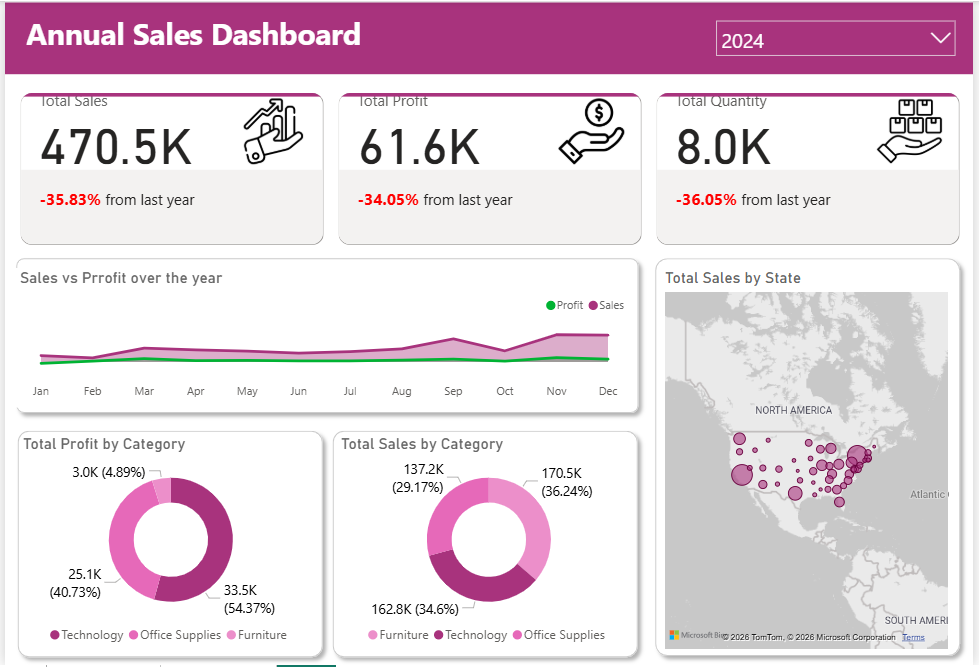

What the dashboard file says about the page in this screenshot:
{"tool":"powerbi","page":{"name":"Page 2","canvas":[1050,720],"ordinal":1},"visuals":[{"type":"shape","box":[0,1.4,1050,77.8],"z":0},{"type":"slicer","fields":{"Values":["Date.Year"]},"box":[761,11.7,279.5,54.1],"z":1000},{"type":"cardVisual","fields":{"Data":["Orders.Total Sales"]},"box":[11.7,95.1,339.5,175.6],"z":2000},{"type":"cardVisual","fields":{"Data":["Orders.Total Profit"]},"box":[355.6,95.1,339.5,175.6],"z":3000},{"type":"shape","box":[695.5,270.7,348.5,449.3],"z":4000},{"type":"shape","box":[2.9,270.7,692.6,185.8],"z":5000},{"type":"cardVisual","fields":{"Data":["Orders.Total Quantity"]},"box":[701,95.1,339.5,175.6],"z":6000},{"type":"textbox","box":[17.3,8.6,469.4,60.5],"z":7000},{"type":"shape","box":[347,456.5,348.5,263.5],"z":8000},{"type":"map","fields":{"Category":["Location.State"],"Size":["Orders.Total Sales"]},"box":[711.4,289.4,316.8,417.6],"z":9000},{"type":"areaChart","title":"Sales vs Prrofit over the year","fields":{"Y":["Orders.Total Profit","Orders.Total Sales"],"Category":["Date.Month"]},"box":[11.5,289.4,669.6,151.2],"z":10000},{"type":"donutChart","fields":{"Y":["Orders.Total Sales"],"Category":["Products.Category"]},"box":[360,470.9,329.8,236.2],"z":11000},{"type":"shape","box":[4.3,456.5,348.5,263.5],"z":12000},{"type":"donutChart","fields":{"Y":["Orders.Total Profit"],"Category":["Products.Category"]},"box":[14.4,470.9,329.8,236.2],"z":13000}]}

Visuals, with their boxes in screenshot pixels (x1, y1, x2, y2), scaled from the page's 1050x720 canvas onto the 979x667 screenshot:
shape: region(0, 1, 978, 73)
slicer - Date.Year: region(710, 11, 970, 61)
cardVisual - Orders.Total Sales: region(11, 88, 327, 251)
cardVisual - Orders.Total Profit: region(332, 88, 648, 251)
shape: region(648, 251, 973, 666)
shape: region(3, 251, 648, 423)
cardVisual - Orders.Total Quantity: region(654, 88, 970, 251)
textbox: region(16, 8, 454, 64)
shape: region(324, 423, 648, 666)
map - Location.State x Orders.Total Sales: region(663, 268, 959, 655)
"Sales vs Prrofit over the year" areaChart: region(11, 268, 635, 408)
donutChart - Orders.Total Sales x Products.Category: region(336, 436, 643, 655)
shape: region(4, 423, 329, 666)
donutChart - Orders.Total Profit x Products.Category: region(13, 436, 321, 655)
